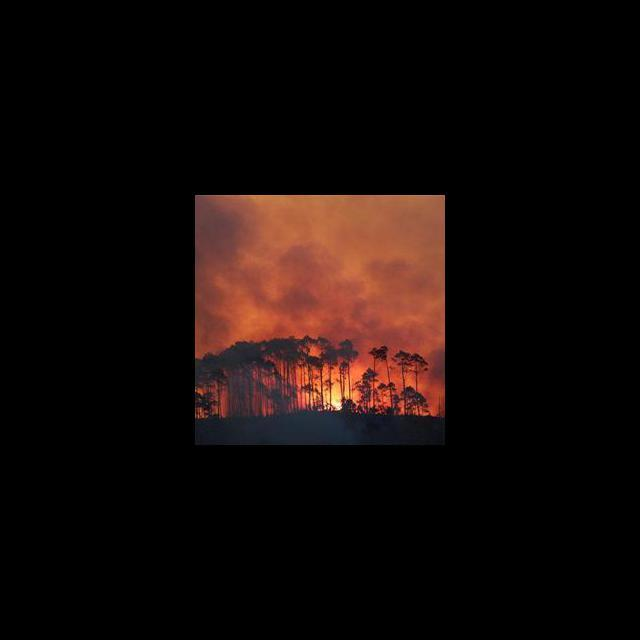Fire: (308, 369, 397, 413)
